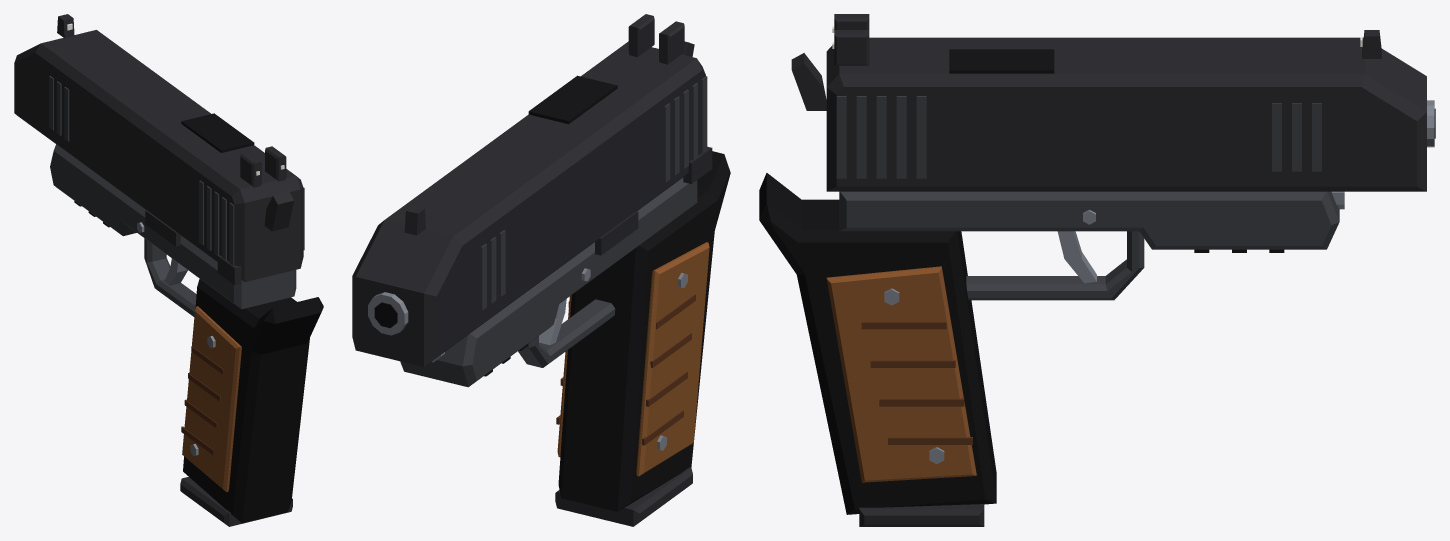
Rendered from pistol.glb.
3 renders of one model, left to right at view 1: azimuth 30°, elevation 25°; view 2: azimuth 150°, elevation 25°; view 3: azimuth 270°, elevation 25°, orthographic. The views are drawn at different scales.
Visible parts, largest first — view 1: pistol2; view 2: pistol2; view 3: pistol2.
Boxes of the visible parts, bbox=[...] form: pistol2: bbox=[14, 14, 323, 526]; pistol2: bbox=[352, 14, 730, 526]; pistol2: bbox=[759, 14, 1435, 526].
Size of the model in its own units: 0.046 by 0.213 by 0.2705.
